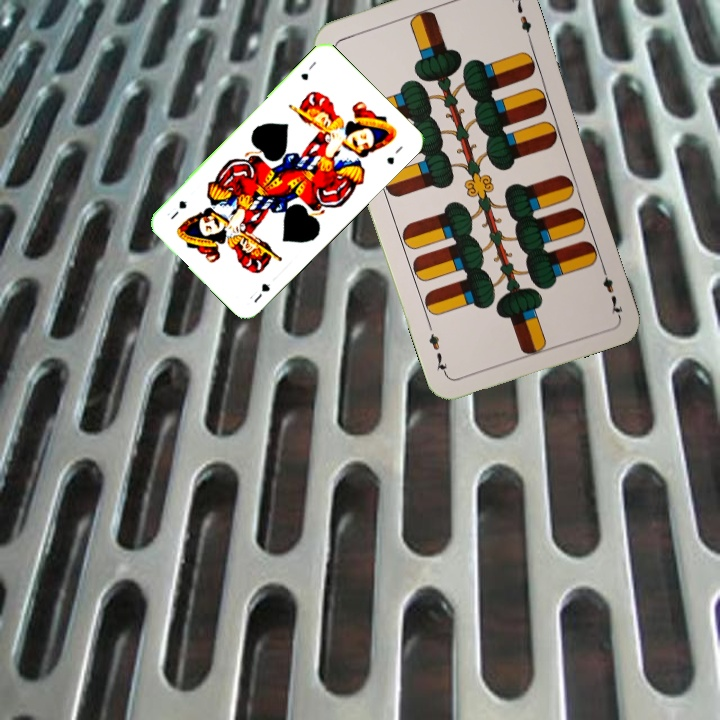E7: (597, 260, 625, 318)
GU: (245, 279, 273, 306), (297, 57, 319, 83)
